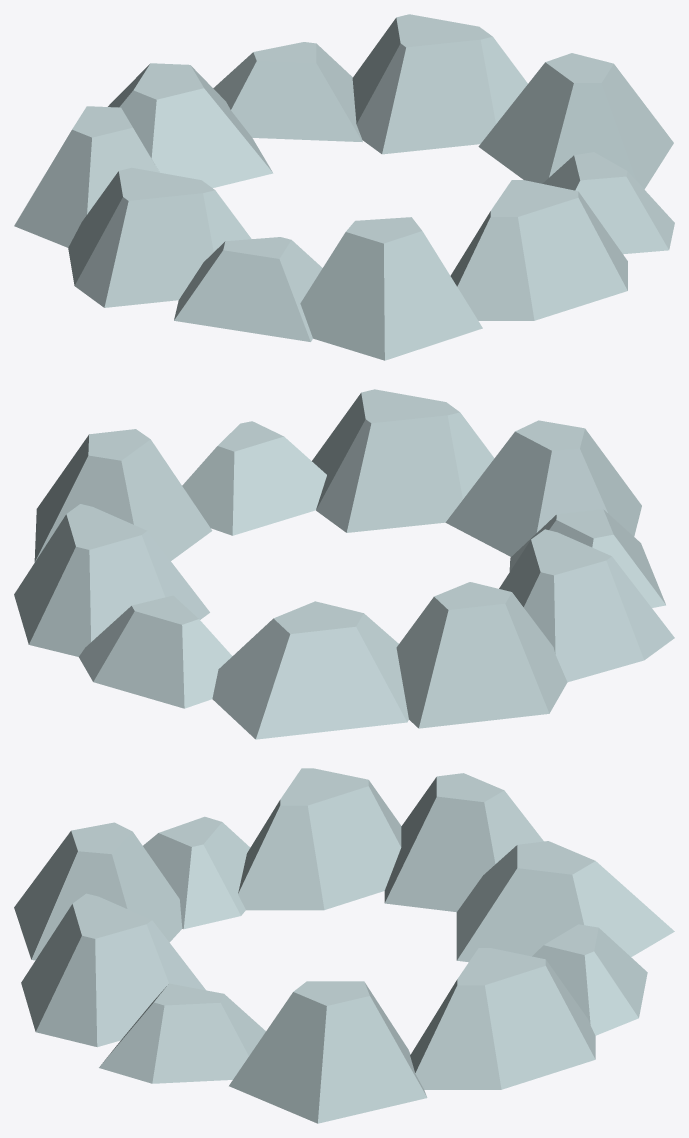
File: campfire_stones.gltf
The picture shows the model from 3 angles, top to bottom: view 1: azimuth 30°, elevation 25°; view 2: azimuth 150°, elevation 25°; view 3: azimuth 270°, elevation 25°; orthographic projection. The views are drawn at different scales.
Parts seen in each view (by area): view 1: campfire_stones; view 2: campfire_stones; view 3: campfire_stones.
Part boxes in pixels (left/top/right/bottom): campfire_stones: left=14, top=14, right=674, bottom=360; campfire_stones: left=14, top=389, right=674, bottom=739; campfire_stones: left=14, top=768, right=674, bottom=1123.
Size of the model in its own units: 0.5408 by 0.0778 by 0.5155.
